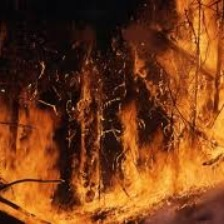incendio: (106, 1, 205, 207), (9, 104, 71, 211), (153, 18, 218, 109)
